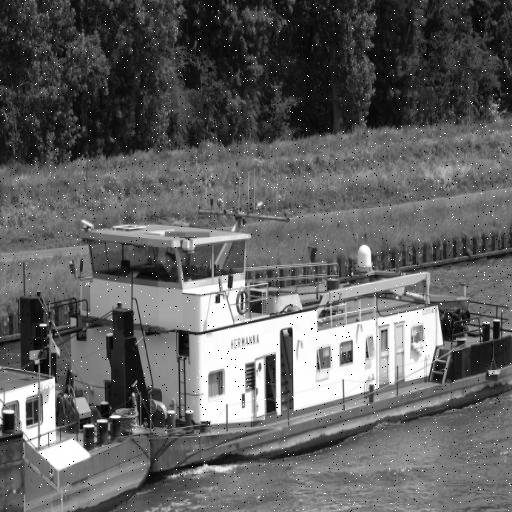tugboat: (13, 217, 512, 481)
